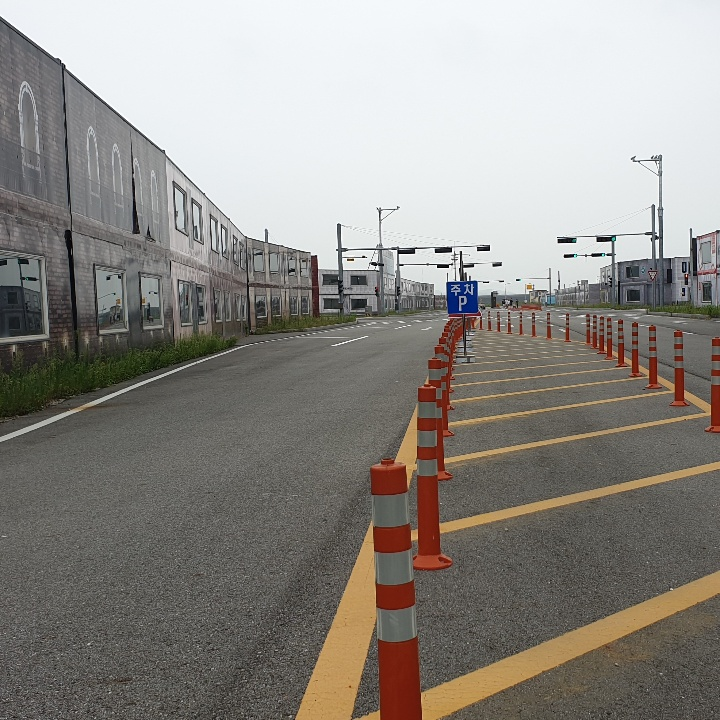parking: (453, 294, 469, 313)
